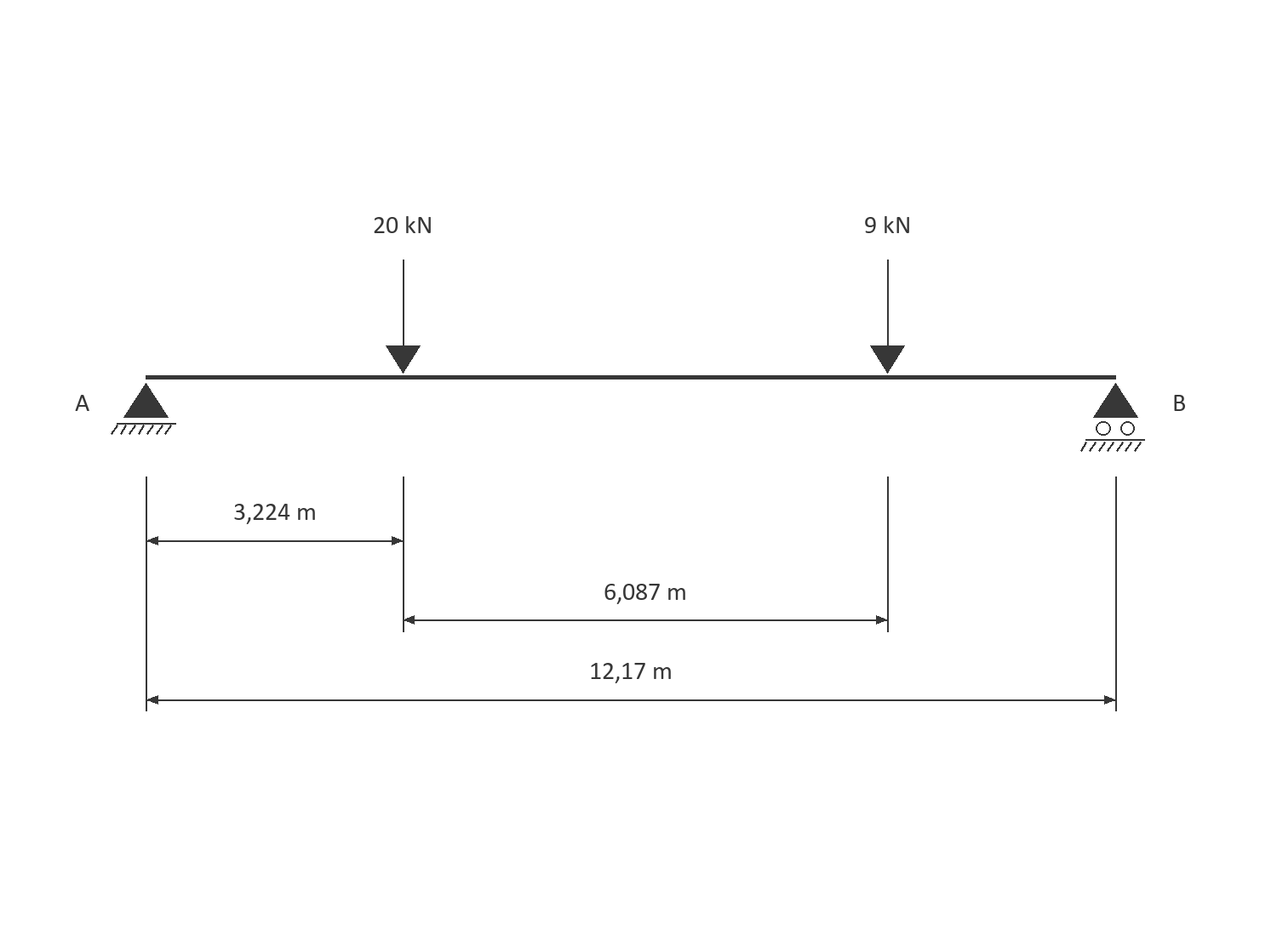pin_support: (111, 383, 176, 435)
point_load: (386, 260, 421, 374), (870, 260, 905, 374)
roller_support: (1080, 383, 1145, 452)
